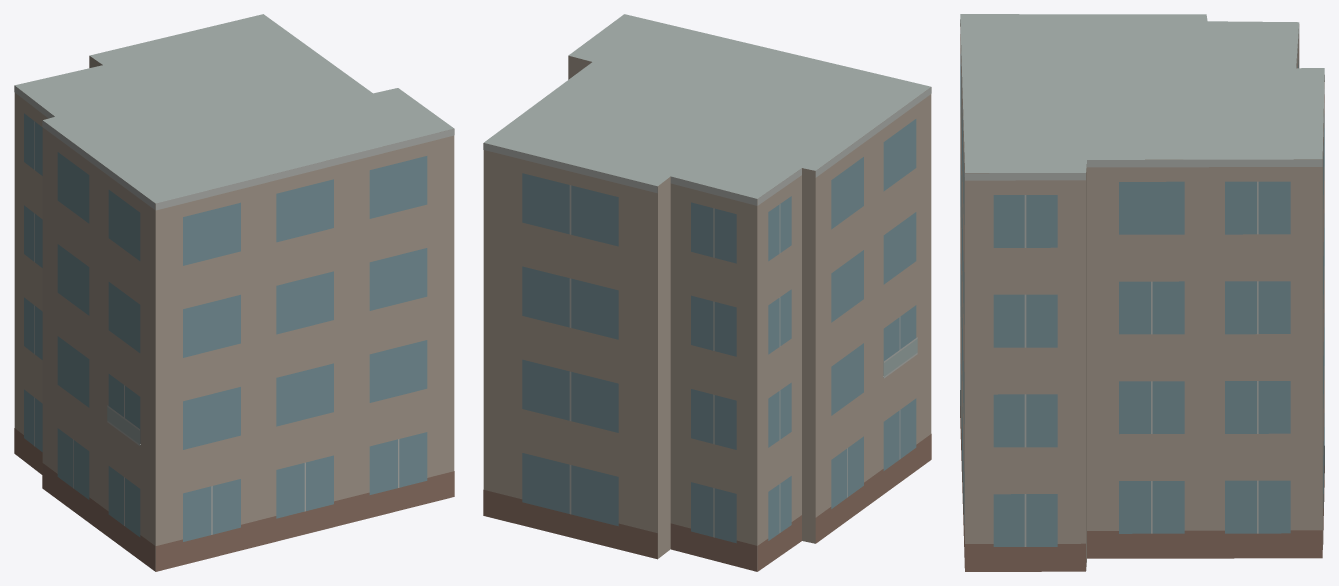
Rendered from survey-upis-32917041.glb.
3 renders of one model, left to right at view 1: azimuth 30°, elevation 25°; view 2: azimuth 150°, elevation 25°; view 3: azimuth 270°, elevation 25°, orthographic. The views are drawn at different scales.
Parts seen in each view (by area): view 1: survey-upis-32917041.tmp; view 2: survey-upis-32917041.tmp; view 3: survey-upis-32917041.tmp.
Boxes of the visible parts, x1,y1,x2,y2 form: survey-upis-32917041.tmp: (14,14,454,571); survey-upis-32917041.tmp: (483,14,931,571); survey-upis-32917041.tmp: (960,14,1324,571).
Size of the model in its own units: 11.12 by 12.95 by 10.74.
